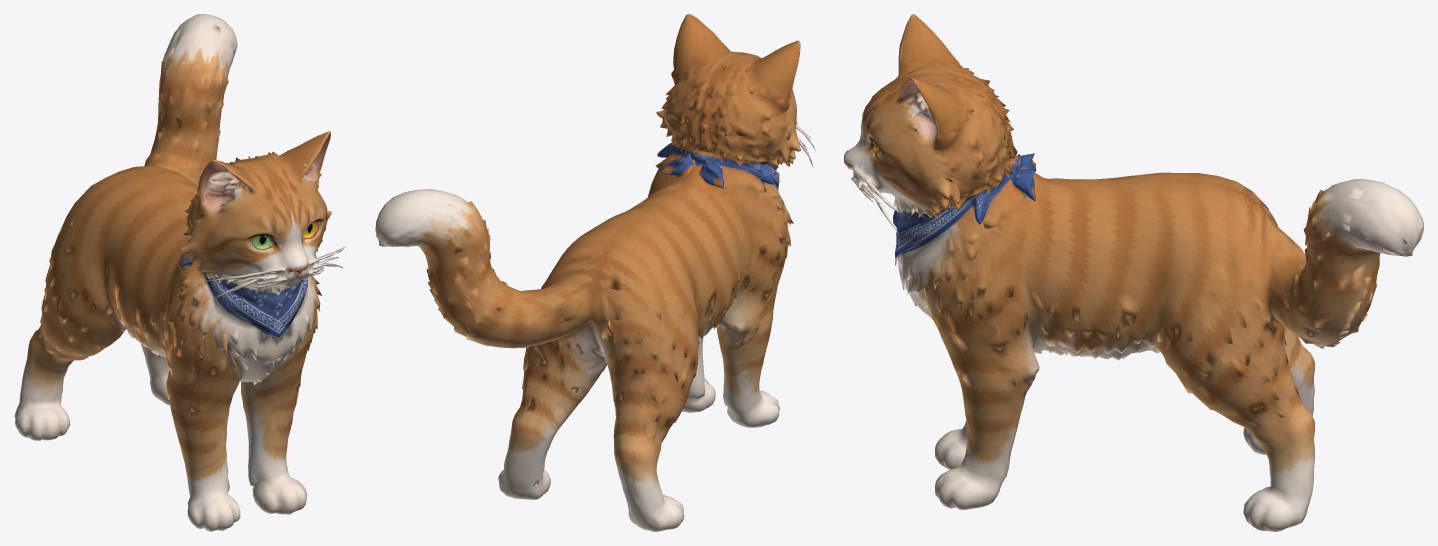
File: cat_retopology.glb
The picture shows the model from 3 angles, left to right: view 1: azimuth 30°, elevation 25°; view 2: azimuth 150°, elevation 25°; view 3: azimuth 270°, elevation 25°; orthographic projection. The views are drawn at different scales.
Visible parts, largest first — view 1: tripo_node_d4c6c128-de5c-43f0-8252-b24eece295db; view 2: tripo_node_d4c6c128-de5c-43f0-8252-b24eece295db; view 3: tripo_node_d4c6c128-de5c-43f0-8252-b24eece295db.
Part boxes in pixels (box(x1,y1,x2,y2)): tripo_node_d4c6c128-de5c-43f0-8252-b24eece295db: box(14, 14, 345, 531); tripo_node_d4c6c128-de5c-43f0-8252-b24eece295db: box(375, 14, 815, 531); tripo_node_d4c6c128-de5c-43f0-8252-b24eece295db: box(844, 14, 1423, 531).
Size of the model in its own units: 0.5951 by 0.8331 by 0.997.
Materials: 1 (1 with a texture image).
